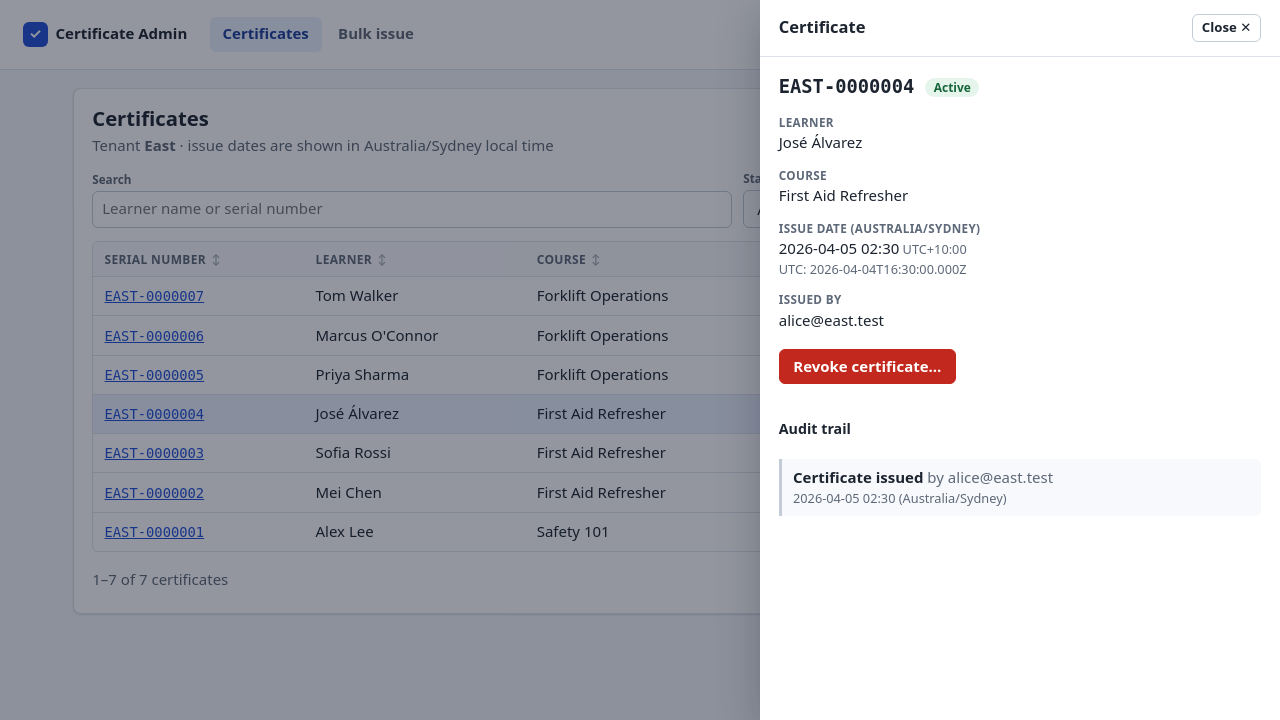
Test: Revocation › says so when the certificate had already been revoked in the meantime
Expected: the dialog named "Certificate details" is shown, x1=760 y1=0 x2=1279 y2=719
Click the button with test id "revoke-button". click: x=867, y=366
box: x1=779 y1=348 x2=956 y2=384
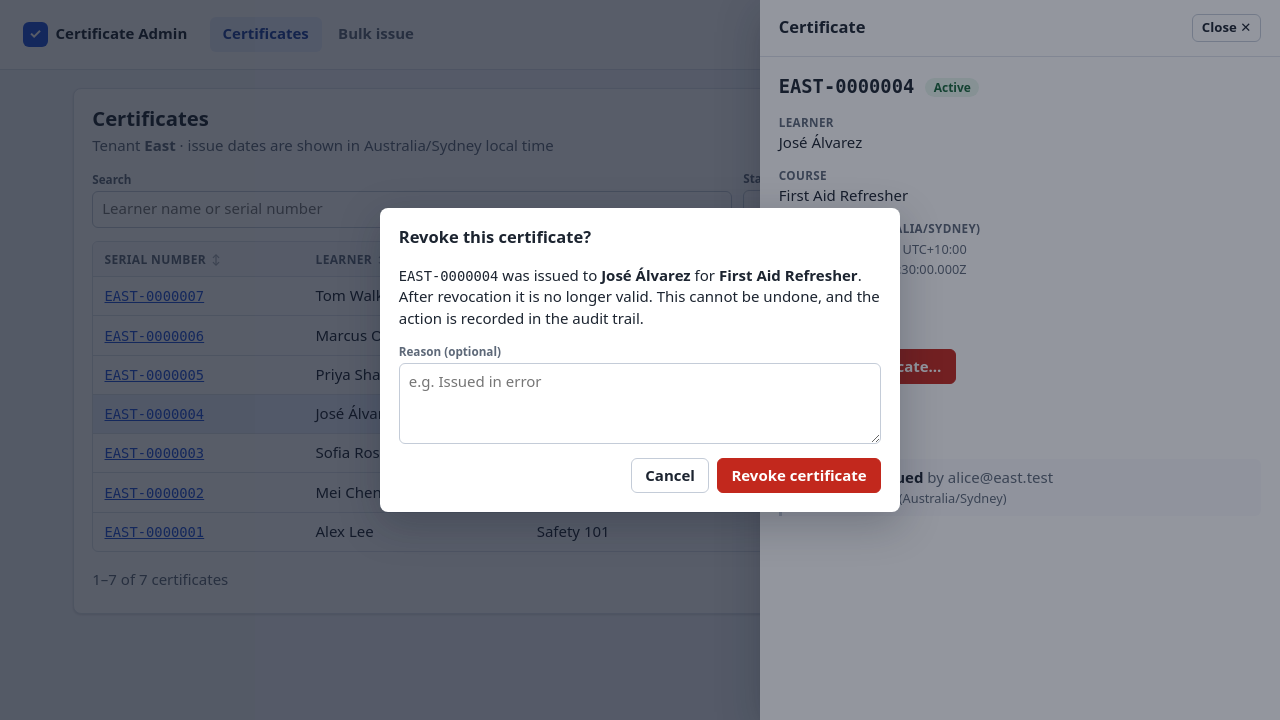
Click the button with test id "revoke-confirm". click: x=799, y=475
box: x1=717 y1=458 x2=881 y2=493
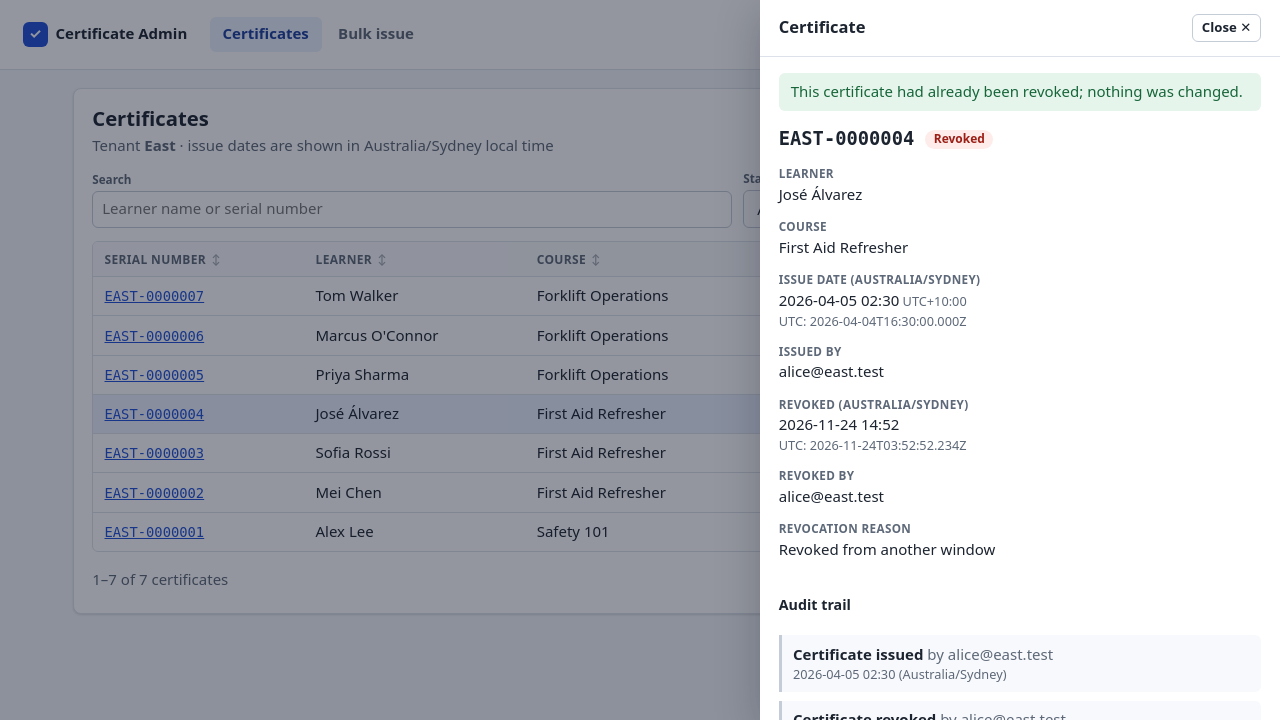
Result: the message with test id "revoke-result" reads "This certificate had already been revoked; nothing was changed." at x1=791 y1=81 x2=1243 y2=101
Result: the element with test id "detail-status" reads "Revoked" at x1=934 y1=130 x2=985 y2=148
Result: the text "Revoked from another window" is shown at x1=779 y1=539 x2=995 y2=559
